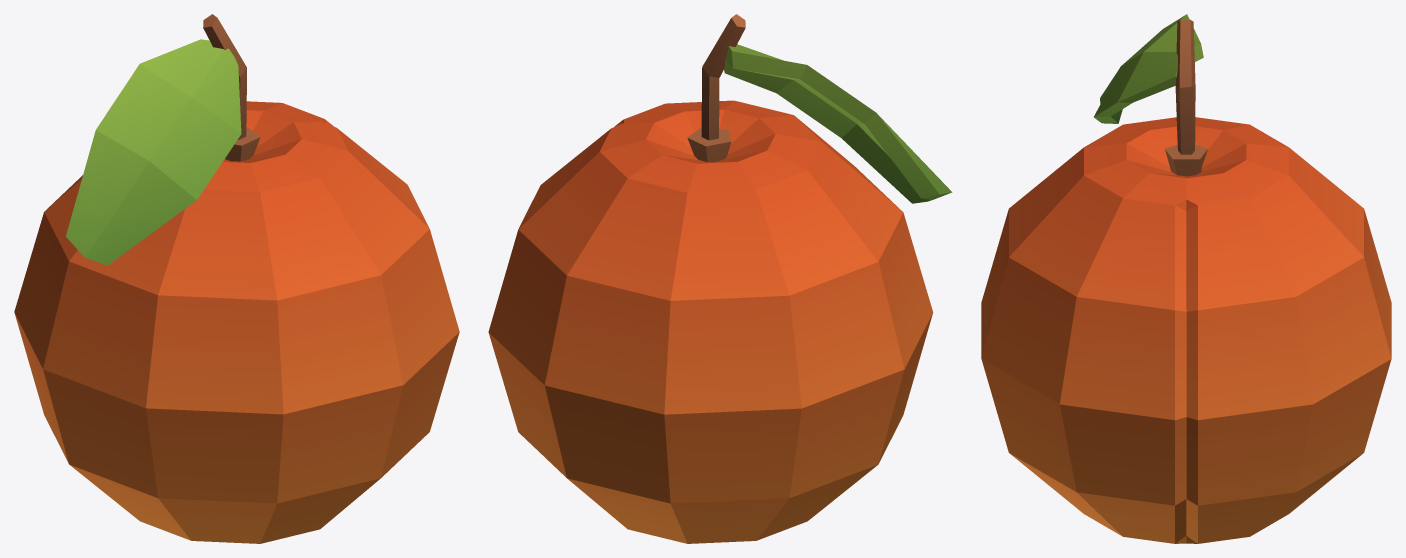
Rendered from Peach.fbx.
The picture shows the model from 3 angles, left to right: view 1: azimuth 30°, elevation 25°; view 2: azimuth 150°, elevation 25°; view 3: azimuth 270°, elevation 25°; orthographic projection. The views are drawn at different scales.
Visible parts, largest first — view 1: Peach; view 2: Peach; view 3: Peach.
Part boxes in pixels (box(x1,y1,x2,y2)): Peach: box(14, 14, 459, 543); Peach: box(488, 14, 952, 543); Peach: box(981, 14, 1391, 543).
Bounding box in the file's own units: 16.97 × 21.36 × 16.02.
